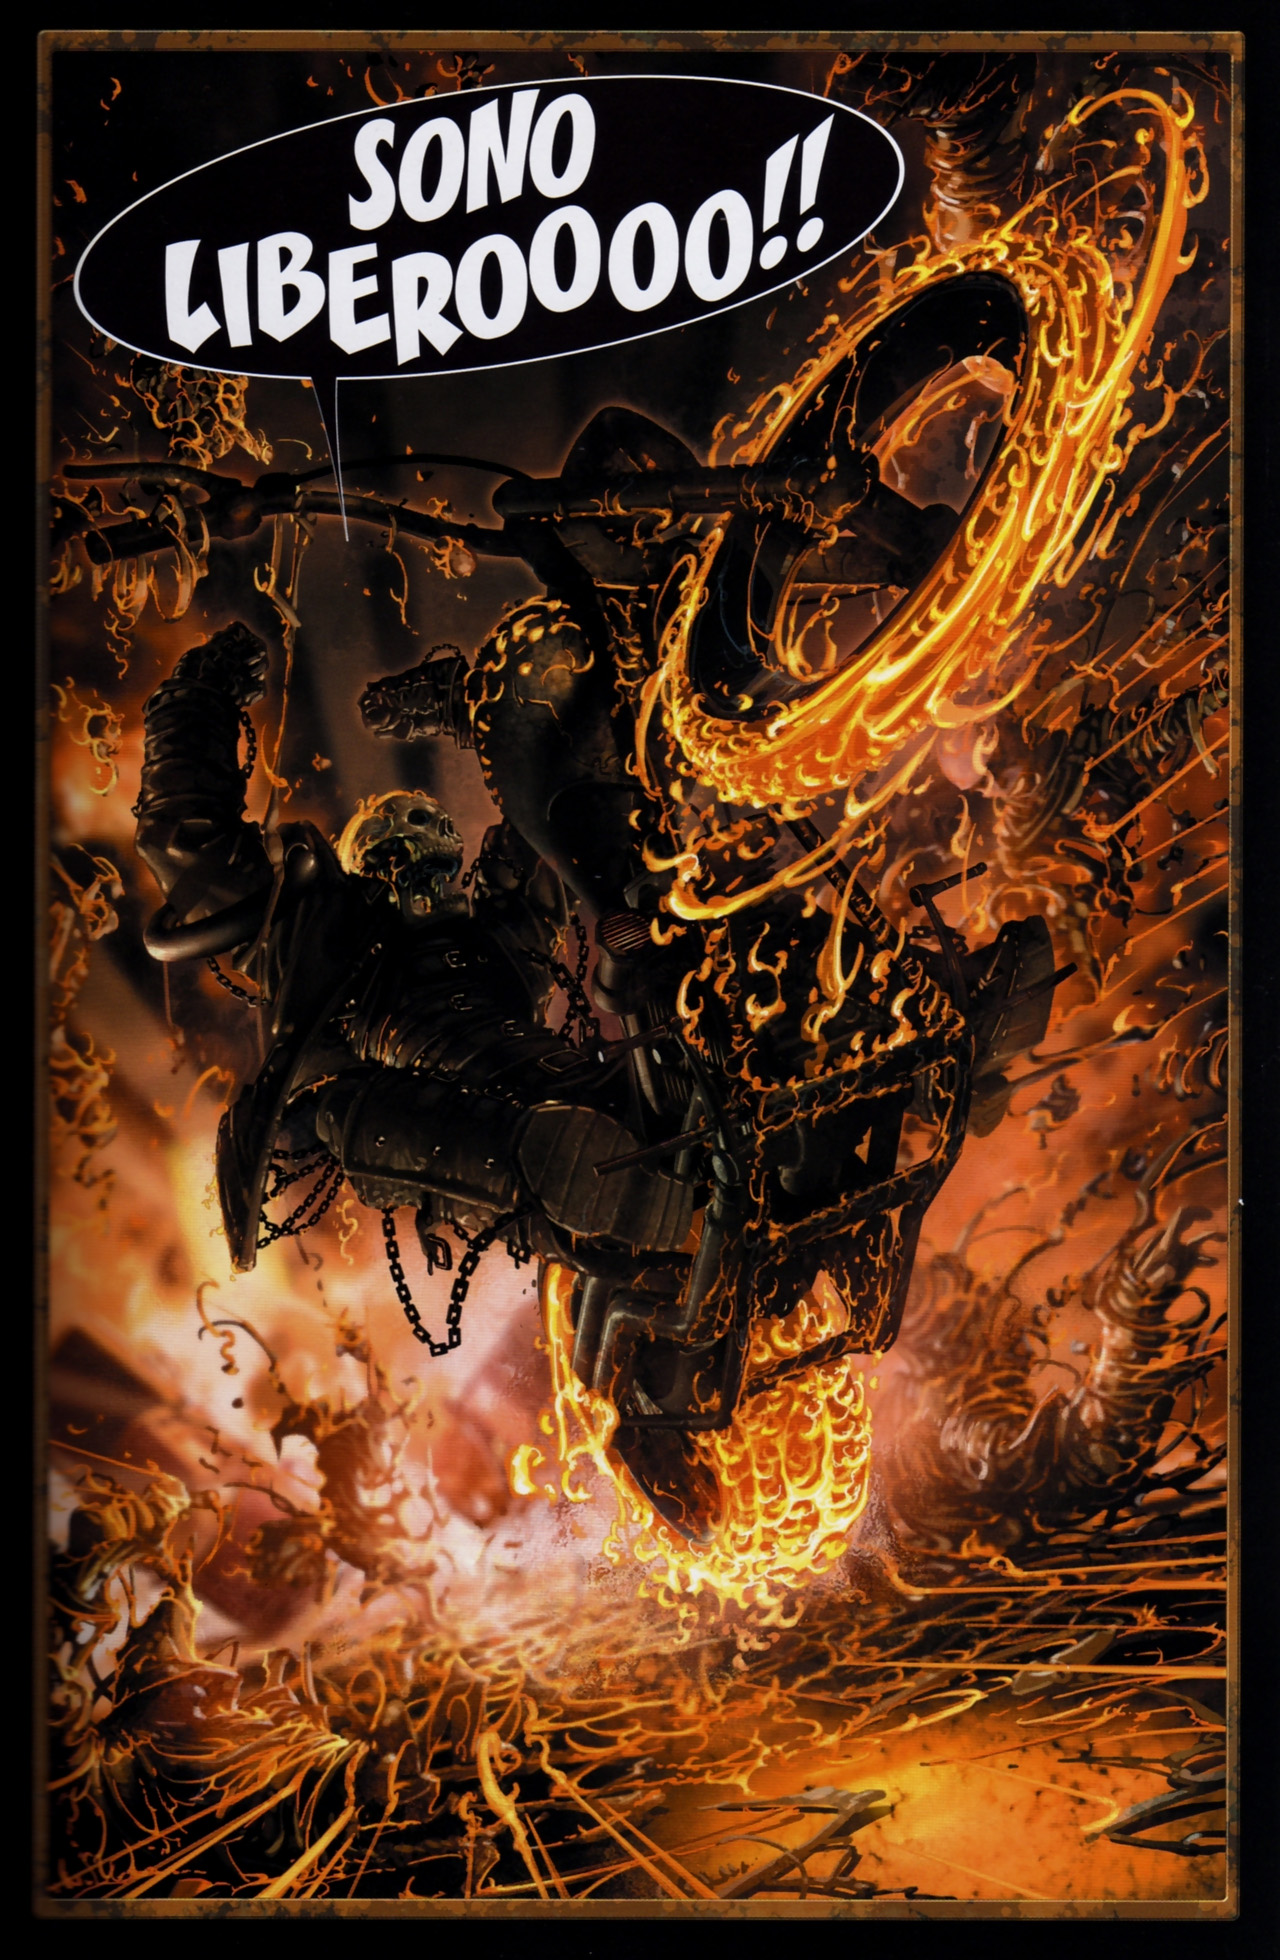Baloon: (79, 73, 909, 391)
Vignetta: (34, 29, 1241, 1924)
